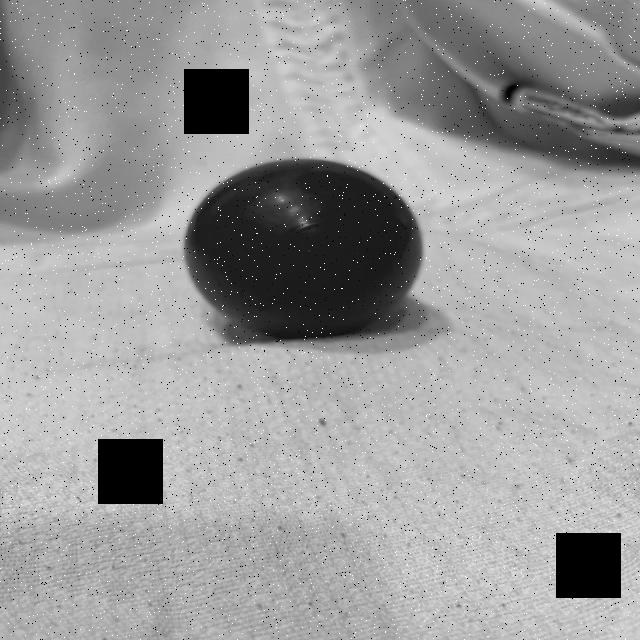ball: (179, 154, 426, 340)
